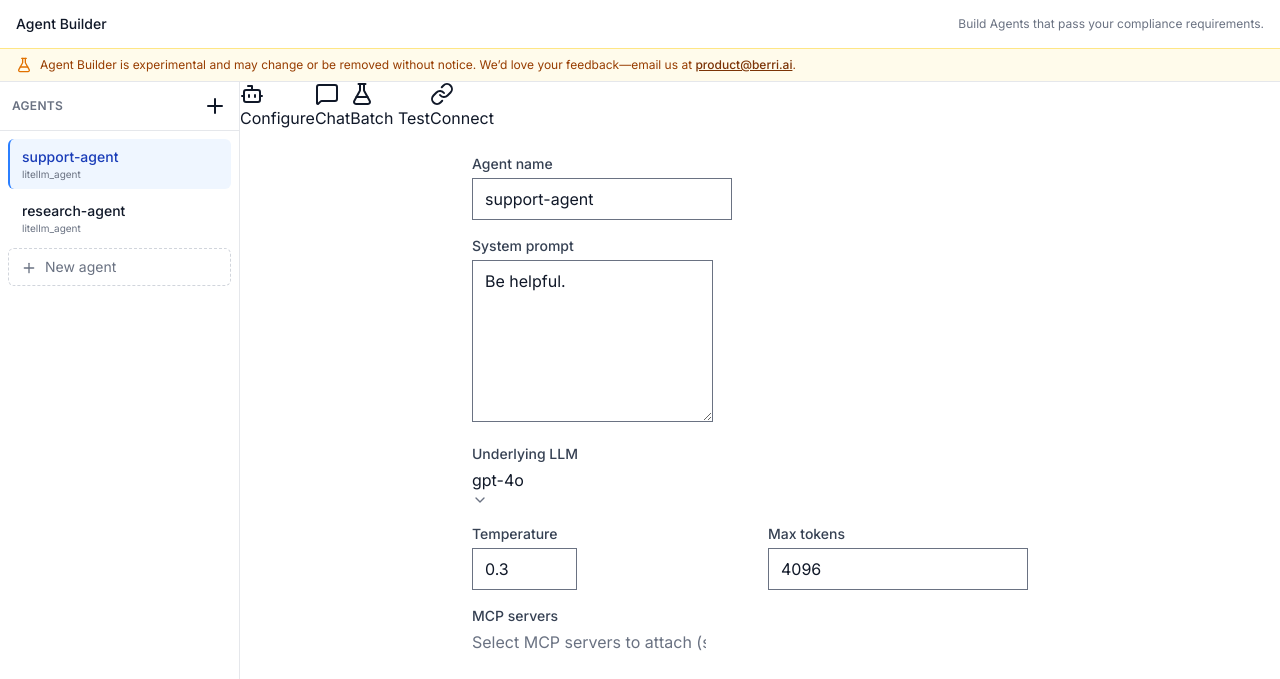
AgentBuilderView › loads the configuration of whichever agent is picked
Expected: the button "support-agent litellm_agent" is shown, [8, 139, 231, 189]
Click the button "research-agent litellm_agent" at (120, 218), box [8, 193, 231, 244]
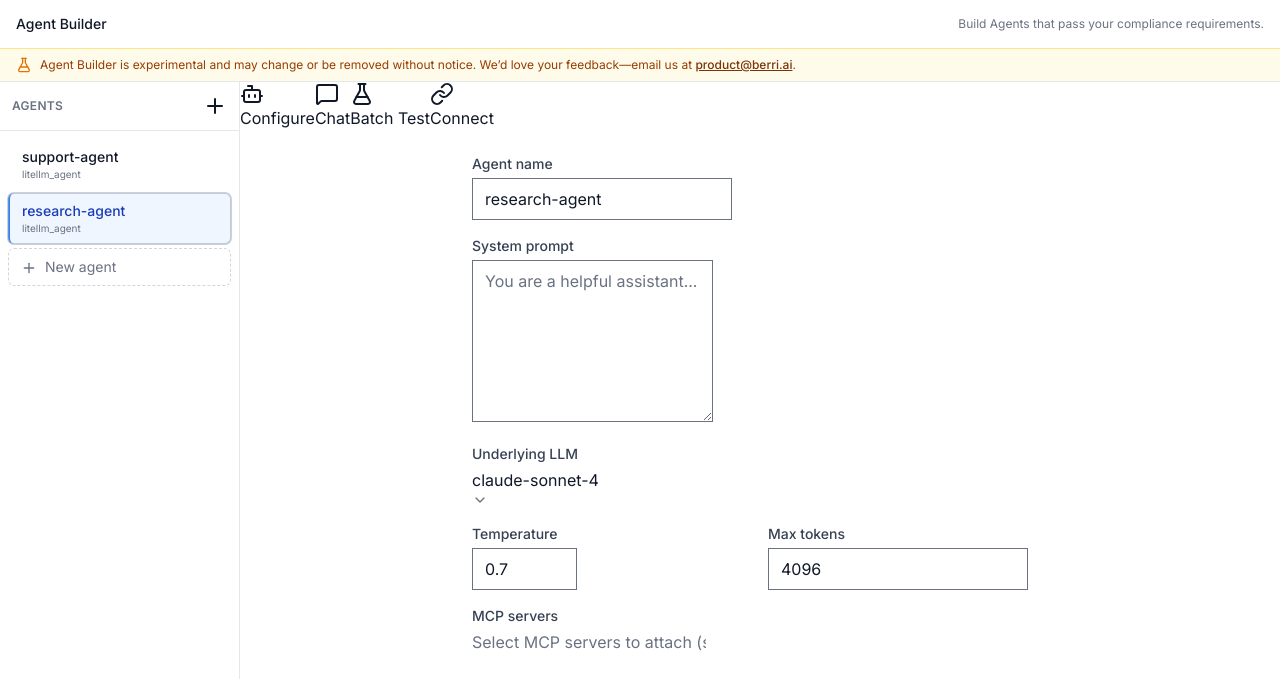
Result: the field showing "research-agent" is shown at [472, 178, 732, 220]
